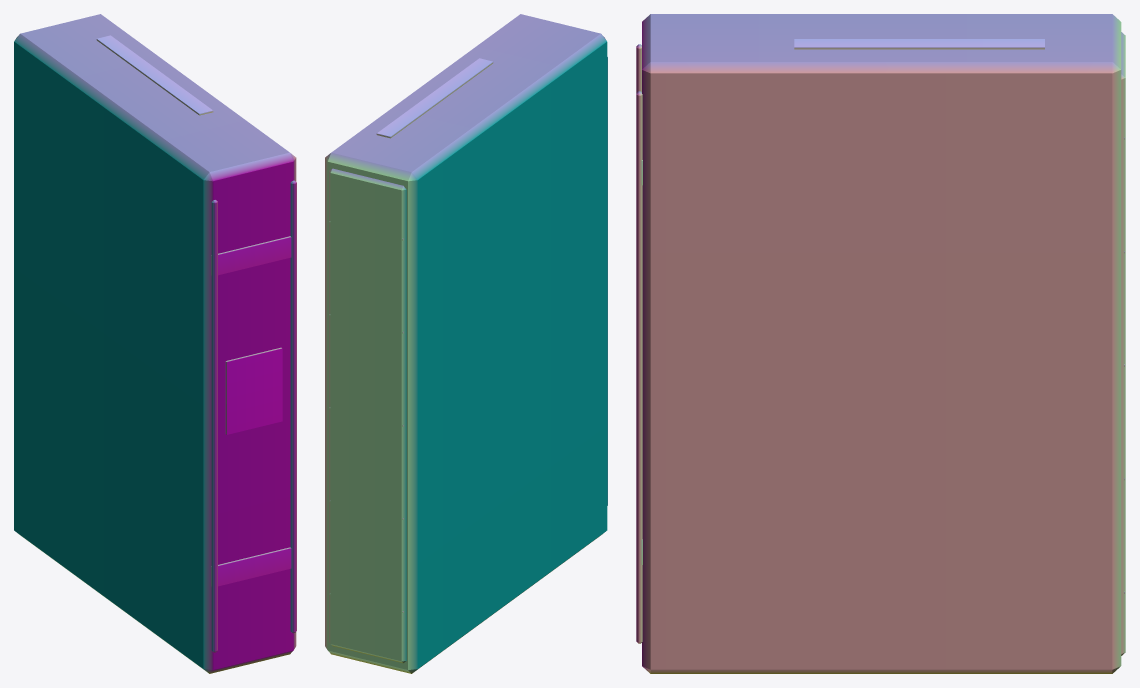
File: env_book_purple.glb
3 views of the same model, side by side, from view 1: azimuth 30°, elevation 25°; view 2: azimuth 150°, elevation 25°; view 3: azimuth 270°, elevation 25° (orthographic). The views are drawn at different scales.
Parts seen in each view (by area): view 1: env_book_purple_mesh; view 2: env_book_purple_mesh; view 3: env_book_purple_mesh.
Part boxes in pixels (x1=…): env_book_purple_mesh: x1=14, y1=14, x2=296, y2=673; env_book_purple_mesh: x1=325, y1=14, x2=607, y2=673; env_book_purple_mesh: x1=636, y1=14, x2=1125, y2=673.
Bounding box in the file's own units: 0.12 × 0.624 × 0.449.
